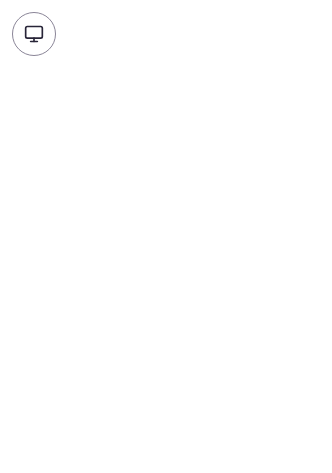
Test case: Esc fecha o menu e devolve o foco
Click the button named "Trocar o tema": (34, 34) left=12, top=12, right=56, bottom=56
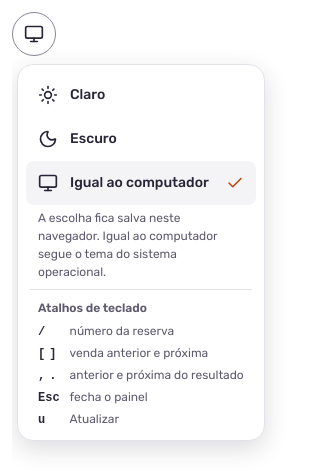
Now the menu is shown, box left=17, top=64, right=265, bottom=441
Press Escape
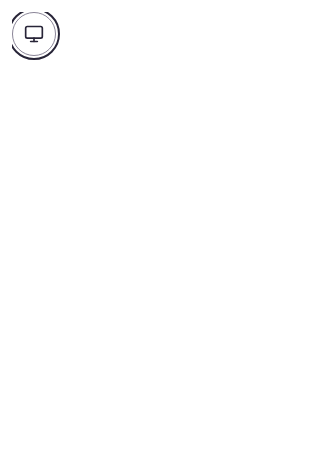
Now the menu is gone
